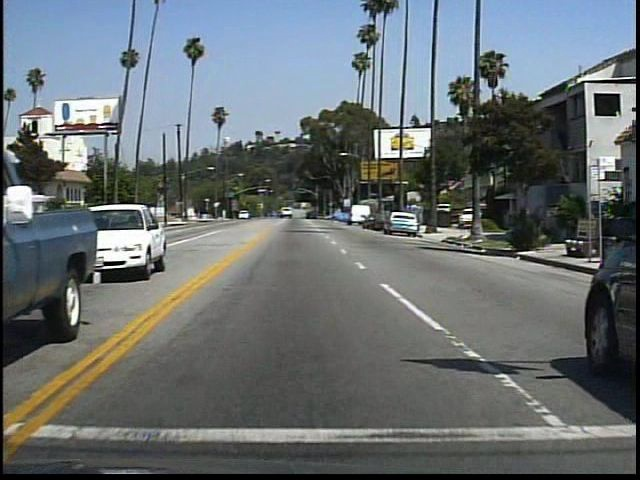person: (517, 198, 541, 251)
